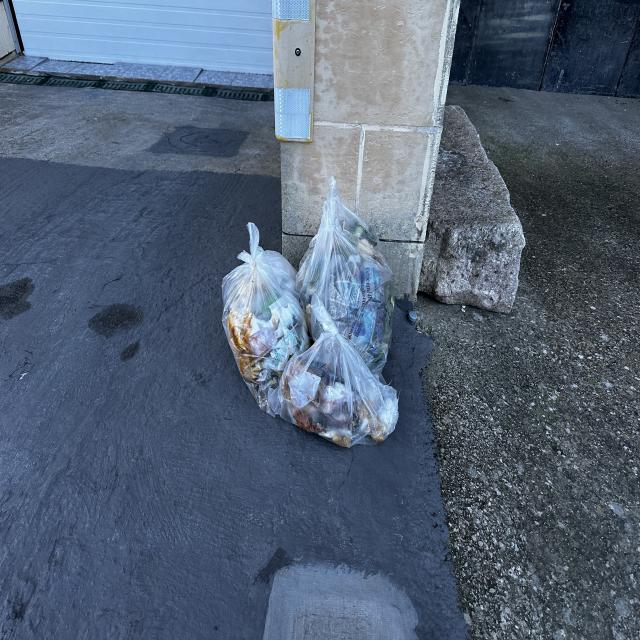Organic Waste -White Bags-: (221, 176, 399, 447)
